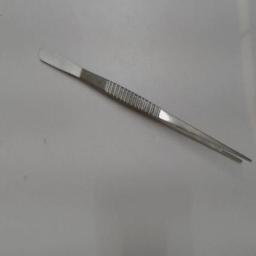DeBakey Dissector: (35, 38, 253, 172)
